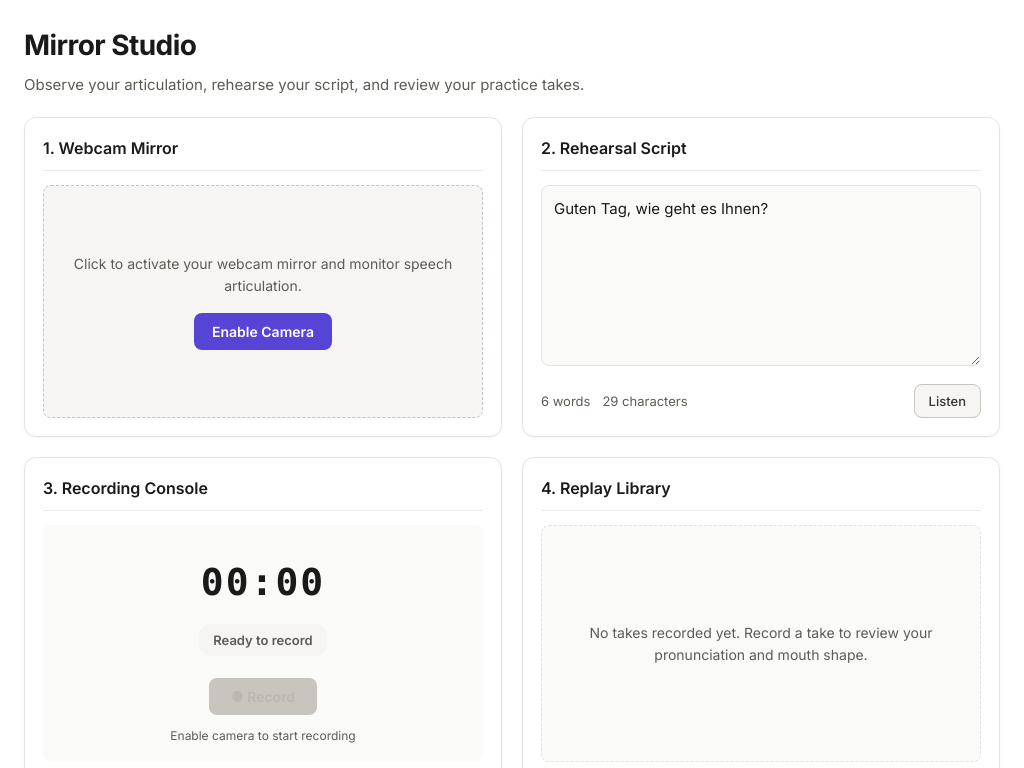
Test: MirrorPage Component › Square 2: Rehearsal Script & TTS › restores saved script from localStorage and updates on typing
Expected: the text "6 words" is shown, [541, 391, 590, 411]
Replace the text in the text box with placeholder "Type or paste phrases to rehearse in front of the mirror..." with "Ich lerne Deutsch." at x=761, y=276, box [541, 185, 981, 366]
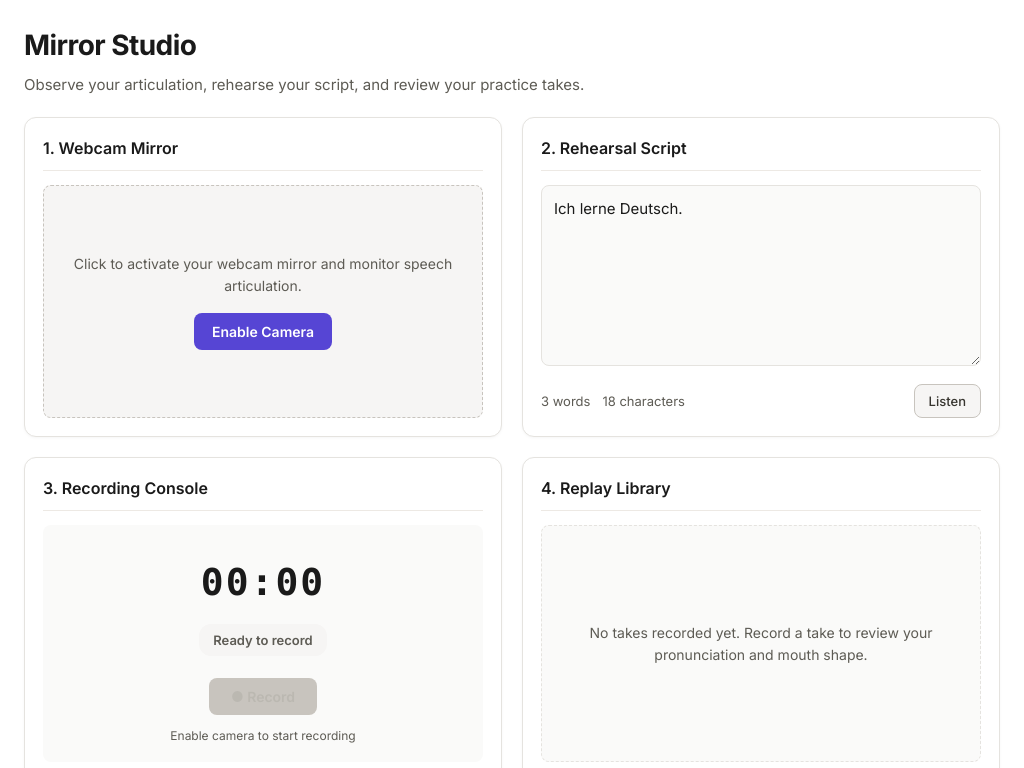
Now the text "3 words" is shown, box [541, 391, 590, 411]
